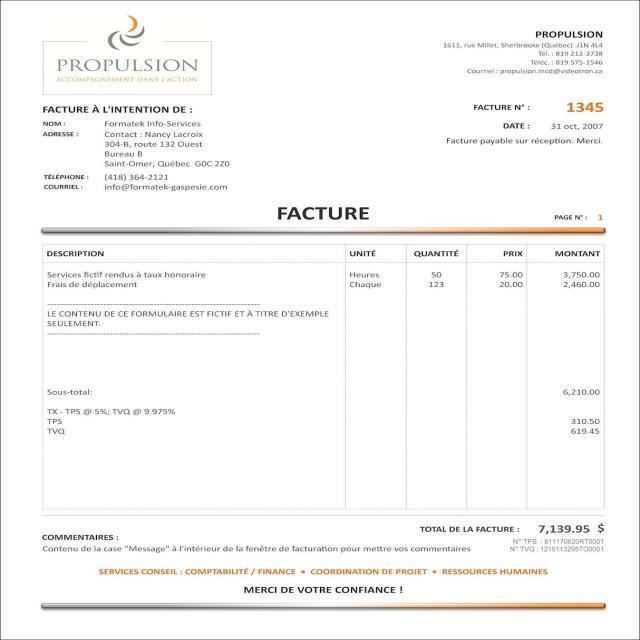customer_address: (105, 130, 238, 169)
customer_name: (104, 119, 201, 129)
invoice_date: (548, 119, 605, 133)
invoice_number: (562, 97, 607, 114)
invoice_subtotal: (557, 385, 604, 397)
invoice_total: (534, 520, 607, 535)
item_description: (48, 268, 214, 292)
item_quantity: (422, 266, 449, 293)
item_total_price: (558, 267, 602, 291)
item_unit_price: (489, 268, 524, 293)
supplier_address: (440, 41, 606, 50), (534, 28, 604, 40)
